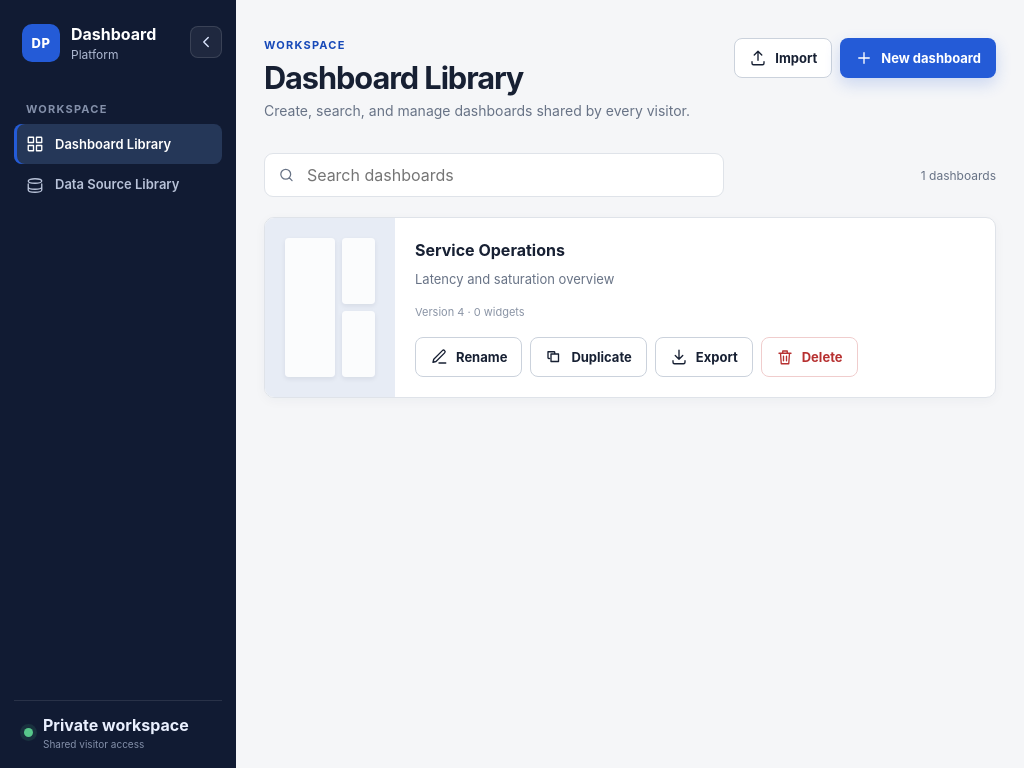
Test: DashboardLibrary › keeps the rename dialog open and preserves typed input after a conflict response
Check: the heading "Service Operations" is shown, box [415,240,565,260]
Click the button "Rename". click: (469, 357)
box: [415,337,522,377]
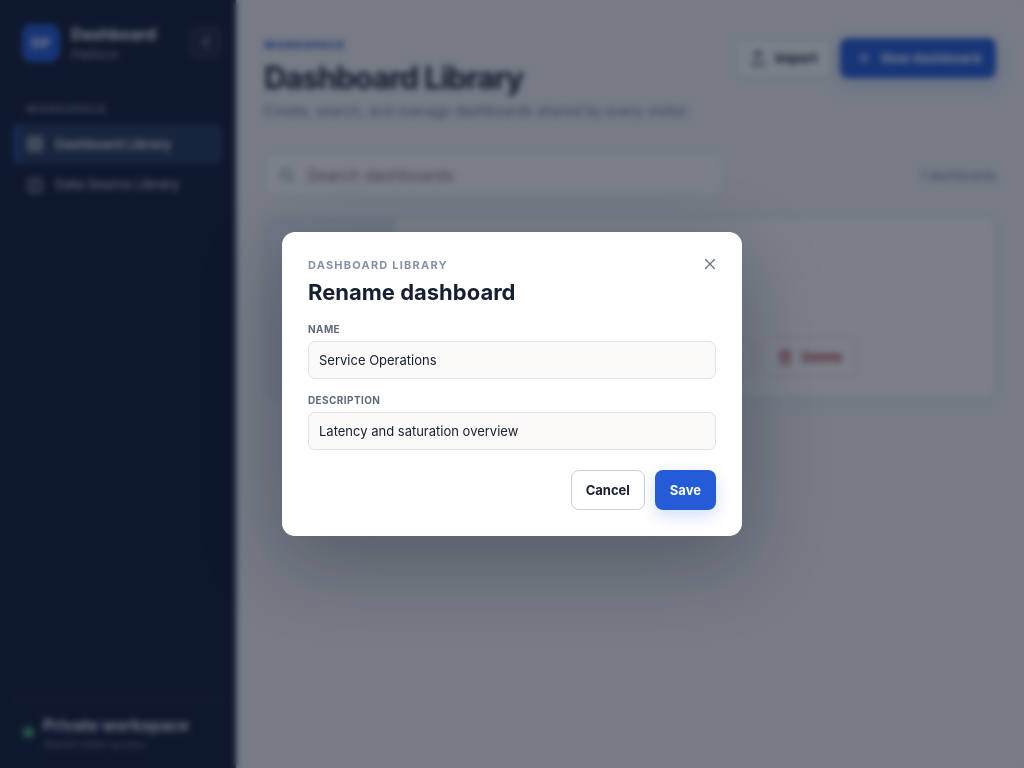
Clear the field labelled "Name". click: (512, 360)
box: [308,341,716,379]
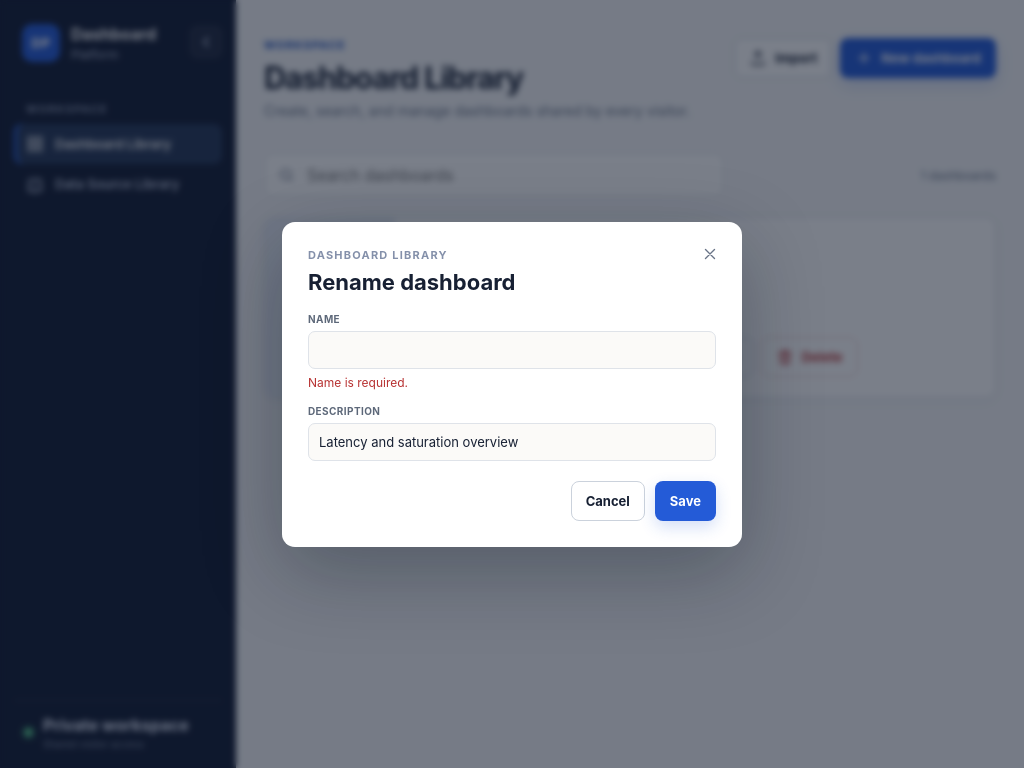
Type "Operations Central" into the field labelled "Name Name is required.". click: (512, 350)
box: [308,330,716,368]
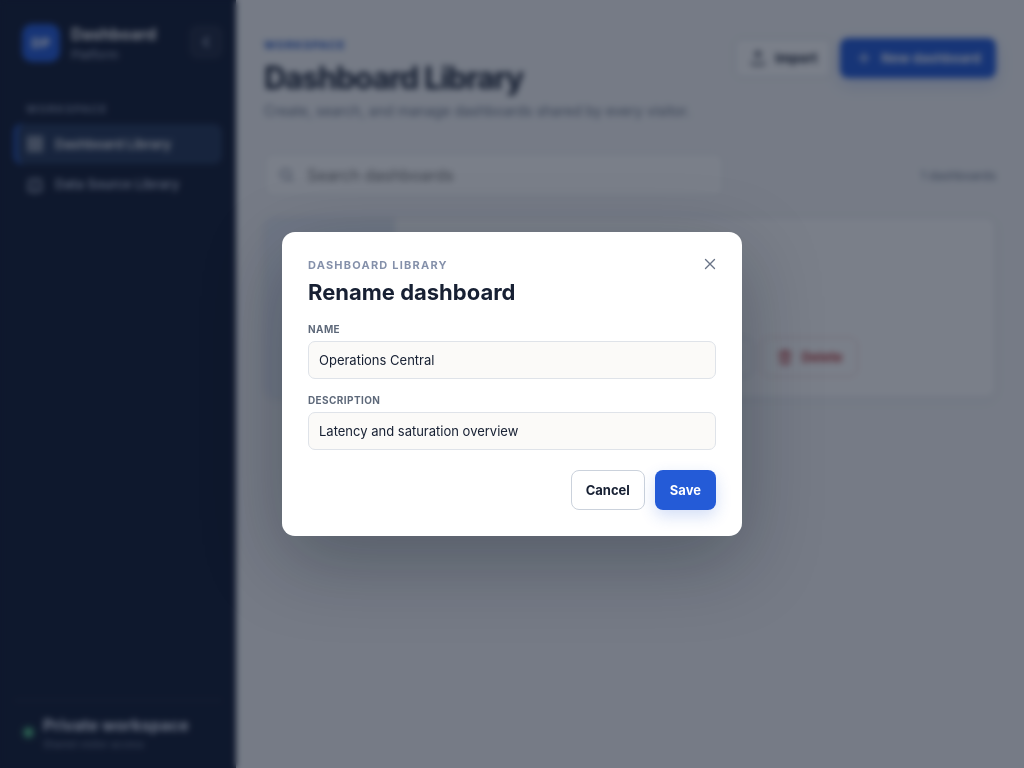
Click the button "Save". click: (685, 490)
box: [655,470,716,510]
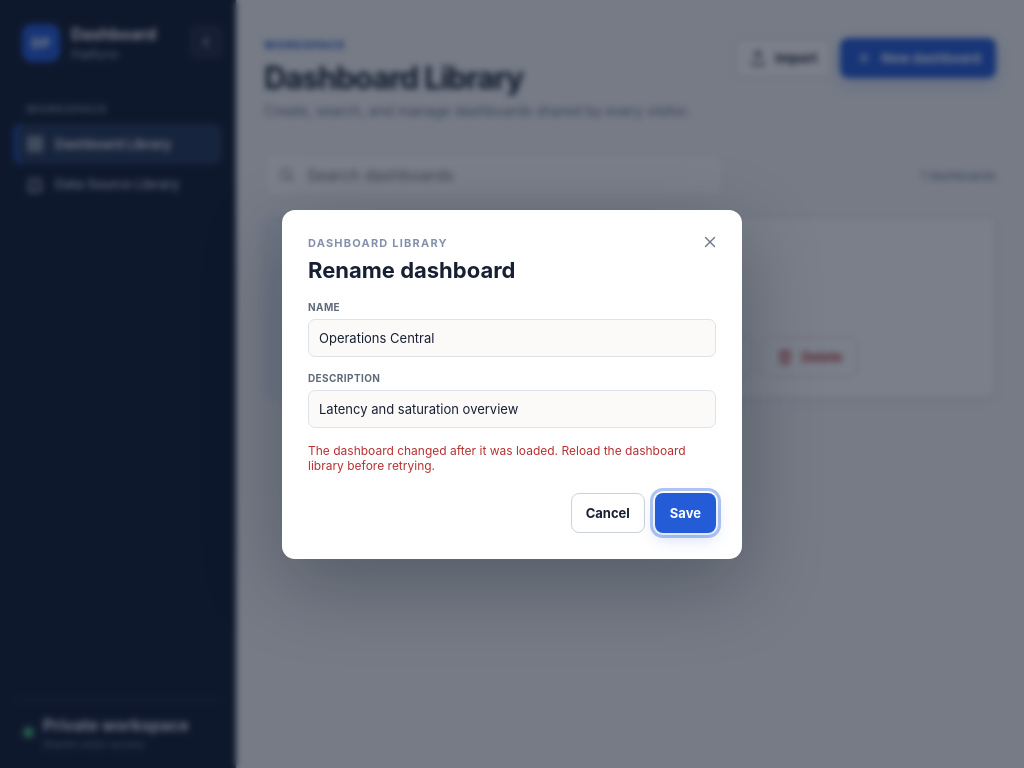
Check: the dialog "Rename dashboard" is shown, box [282,210,742,558]
Check: the text "Reload" is shown, box [308,442,686,472]
